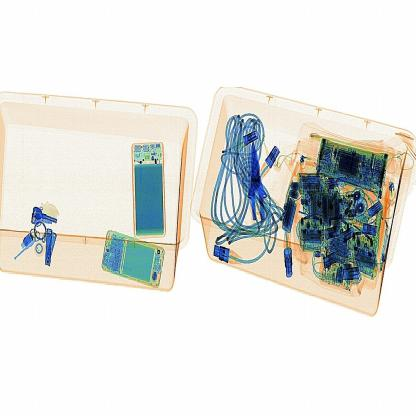gun: (234, 142, 290, 237)
